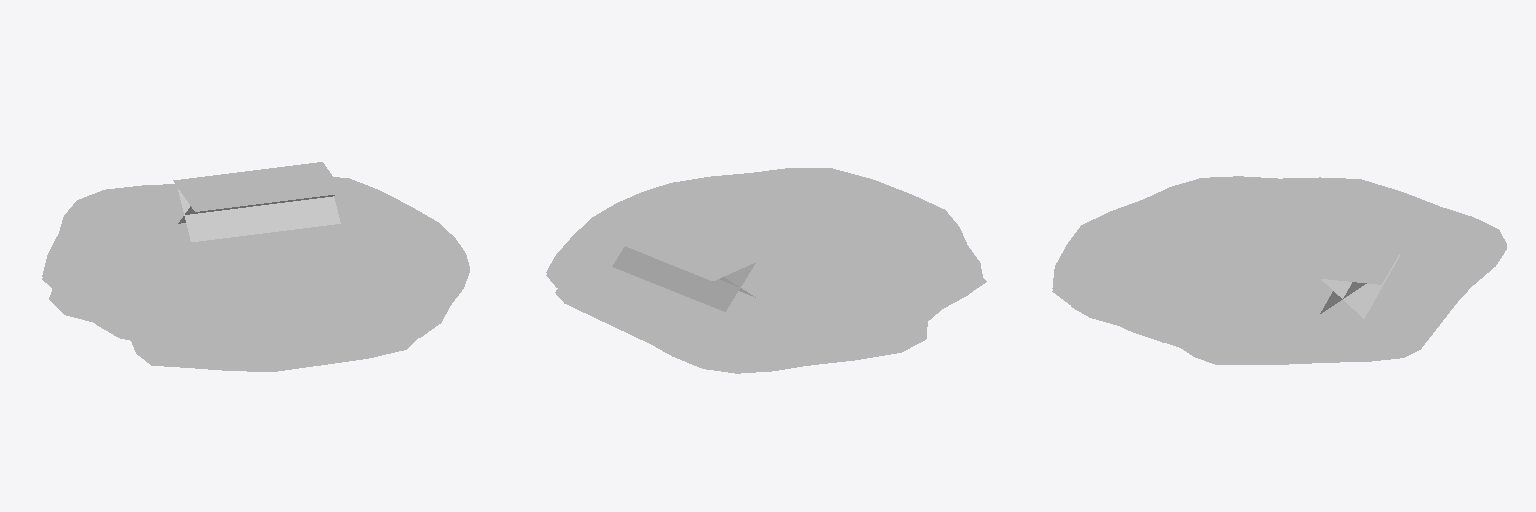
File: park_platform.obj
The picture shows the model from 3 angles: view 1: azimuth 30°, elevation 25°; view 2: azimuth 150°, elevation 25°; view 3: azimuth 270°, elevation 25°; orthographic projection.
Parts seen in each view (by area): view 1: Circle; view 2: Circle; view 3: Circle.
Part boxes in pixels (bbox=[...]): Circle: bbox=[42, 162, 469, 371]; Circle: bbox=[546, 168, 986, 373]; Circle: bbox=[1052, 176, 1506, 364].
Bounding box in the file's own units: 6.36 × 0.9623 × 6.99.